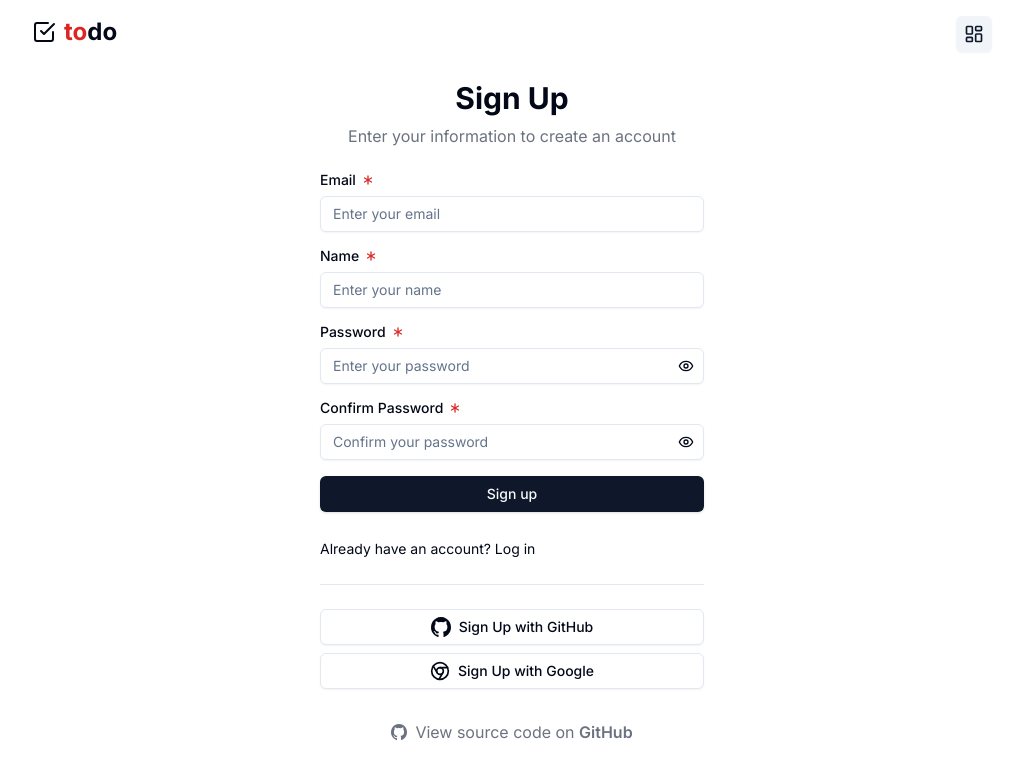
Test: Submit signup form › should show an error if password is too short
In the password field named "password": (512, 366) [320,348,704,384], type "1234"
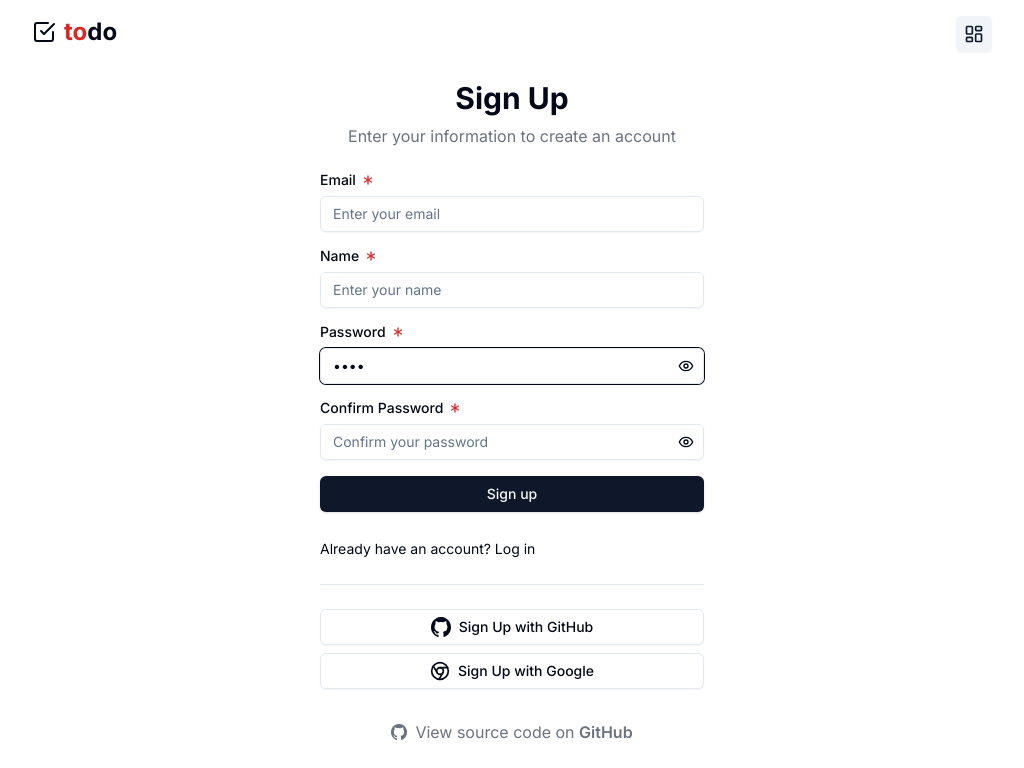
In the password field named "passwordConfirm": (512, 442) [320,424,704,460], type "1234"
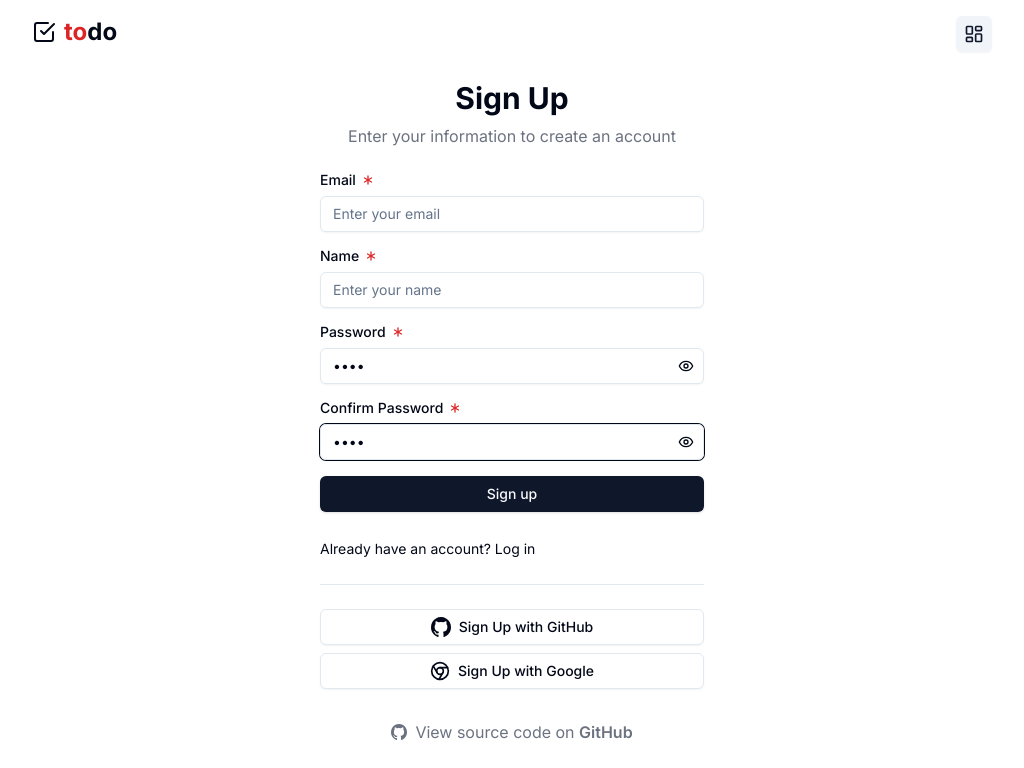
Click the submit button: (512, 494) [320,476,704,512]
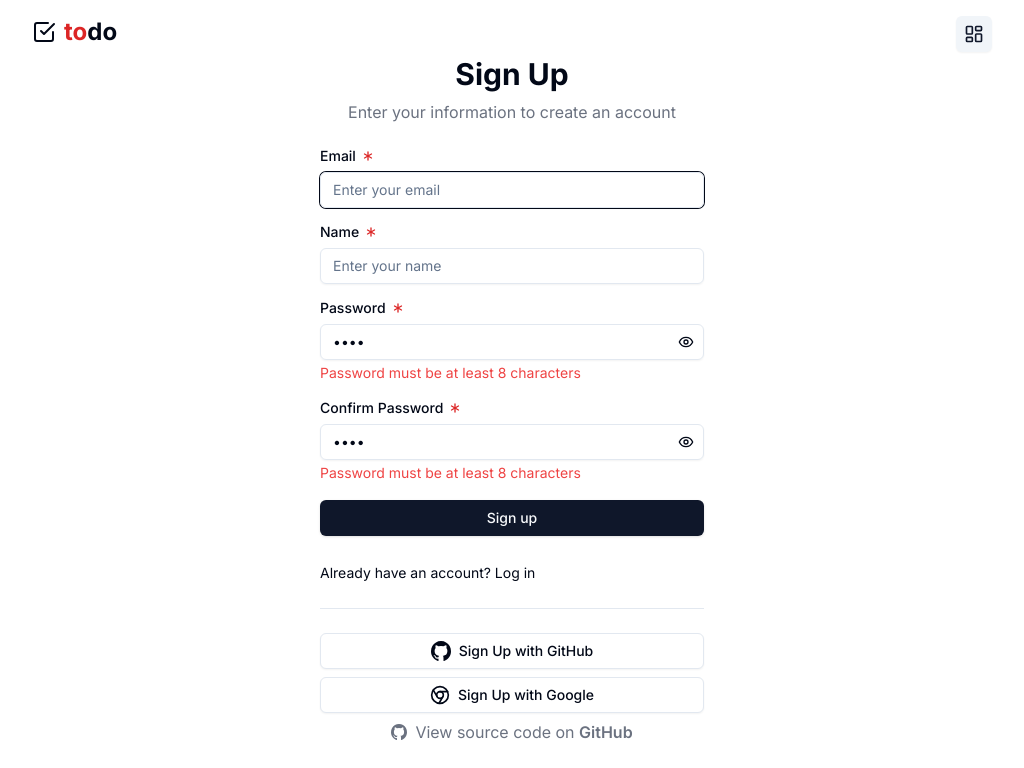
Now the 1st text "Password must be at least 8 characters" is shown, box [320,364,581,380]
